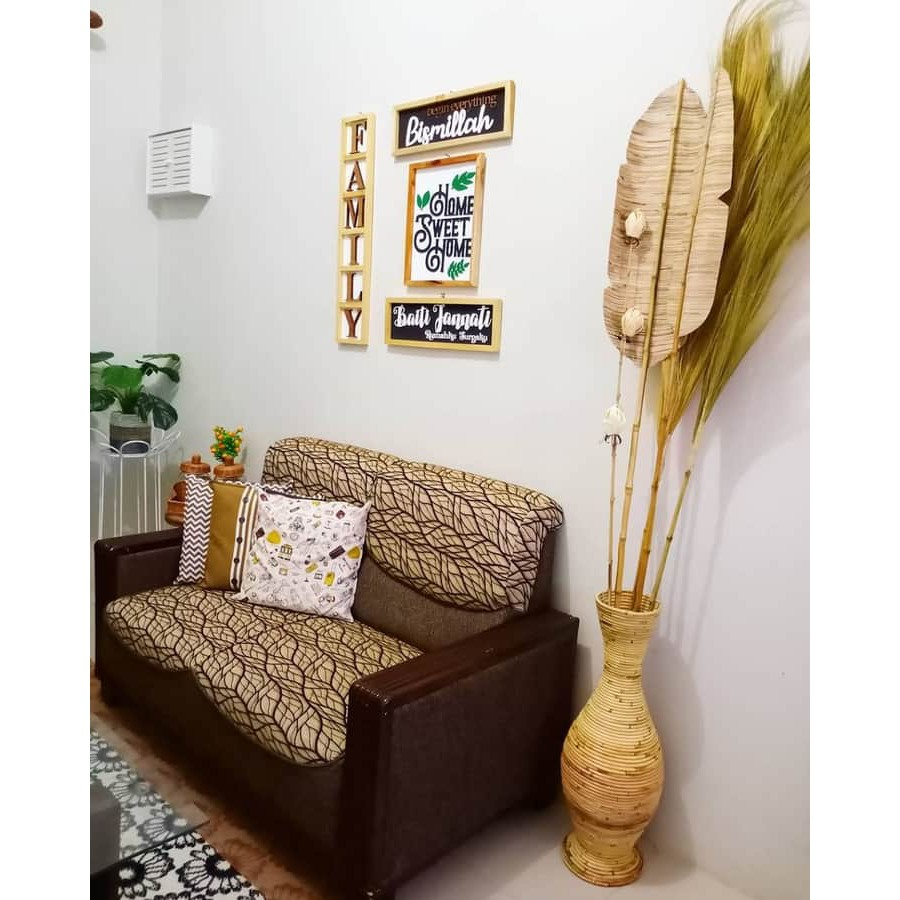bantal: (235, 484, 360, 620), (183, 476, 240, 589)
lukisan: (401, 154, 483, 291), (334, 107, 373, 353), (393, 77, 518, 144), (384, 297, 505, 357)
sova: (98, 431, 570, 874)
tanaman: (91, 347, 178, 453)
